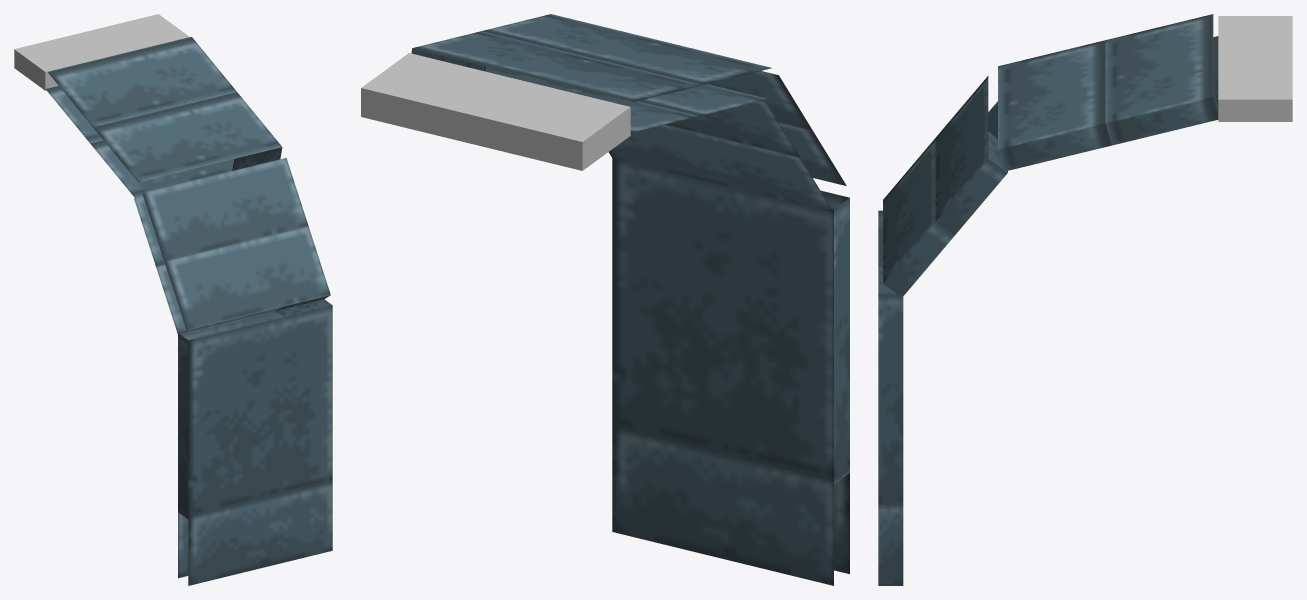
The model's file is metalColumn.fbx.
3 renders of one model, left to right at view 1: azimuth 30°, elevation 25°; view 2: azimuth 150°, elevation 25°; view 3: azimuth 270°, elevation 25°, orthographic. The views are drawn at different scales.
Parts seen in each view (by area): view 1: cube_1, cube_3, cube_2, cube_5, cube_6, cube, cube_4; view 2: cube_1, cube, cube_4, cube_2, cube_6, cube_3, cube_5; view 3: cube_6, cube_3, cube_4, cube_5, cube_2, cube_1, cube.
Part boxes in pixels (box(x1,y1,x2,y2)): cube_1: box(178, 299, 332, 519); cube_3: box(90, 92, 282, 198); cube_2: box(156, 226, 330, 334); cube_5: box(134, 158, 308, 266); cube_6: box(45, 37, 236, 143); cube: box(178, 485, 332, 585); cube_4: box(14, 14, 189, 90); cube_1: box(612, 158, 849, 484); cube: box(612, 430, 849, 585); cube_4: box(361, 53, 630, 170); cube_2: box(608, 122, 846, 212); cube_6: box(411, 31, 702, 132); cube_3: box(482, 14, 771, 115); cube_5: box(665, 71, 812, 157); cube_6: box(1105, 14, 1218, 145); cube_3: box(998, 40, 1111, 171); cube_4: box(1218, 16, 1292, 121); cube_5: box(935, 76, 1007, 234); cube_2: box(883, 138, 954, 296); cube_1: box(878, 210, 903, 507); cube: box(878, 507, 903, 585).
Size of the model in its own units: 100 by 272 by 209.
Materials: 2 (1 with a texture image).
